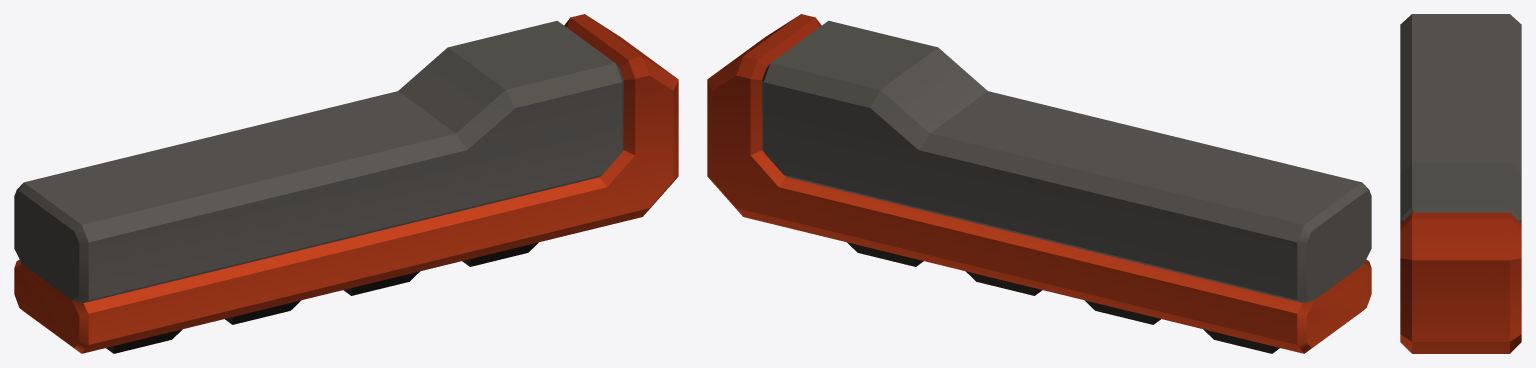
The model's file is Shotgun1_Bolt.fbx.
The picture shows the model from 3 angles, left to right: view 1: azimuth 30°, elevation 25°; view 2: azimuth 150°, elevation 25°; view 3: azimuth 270°, elevation 25°; orthographic projection. The views are drawn at different scales.
Parts seen in each view (by area): view 1: Shotgun1_Bolt; view 2: Shotgun1_Bolt; view 3: Shotgun1_Bolt.
Boxes of the visible parts, x1=… form: Shotgun1_Bolt: x1=14, y1=14, x2=678, y2=353; Shotgun1_Bolt: x1=707, y1=14, x2=1371, y2=353; Shotgun1_Bolt: x1=1400, y1=14, x2=1521, y2=353.
Bounding box in the file's own units: 17.04 × 4.89 × 3.52.
